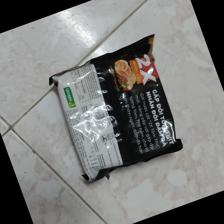3mien: (48, 33, 185, 184)
